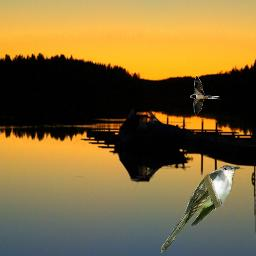Cuckoo: (159, 164, 240, 255)
Swallow: (190, 75, 220, 115)
